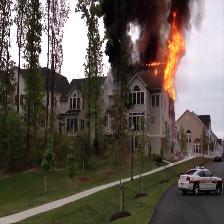fire: (167, 27, 181, 92)
smoke: (104, 3, 158, 61), (170, 0, 192, 23)
